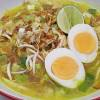ayam_geprek: (7, 11, 100, 95)
